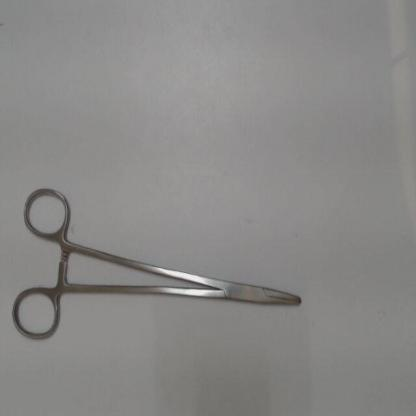8 Mayo Needle Holder: (7, 176, 310, 349)
